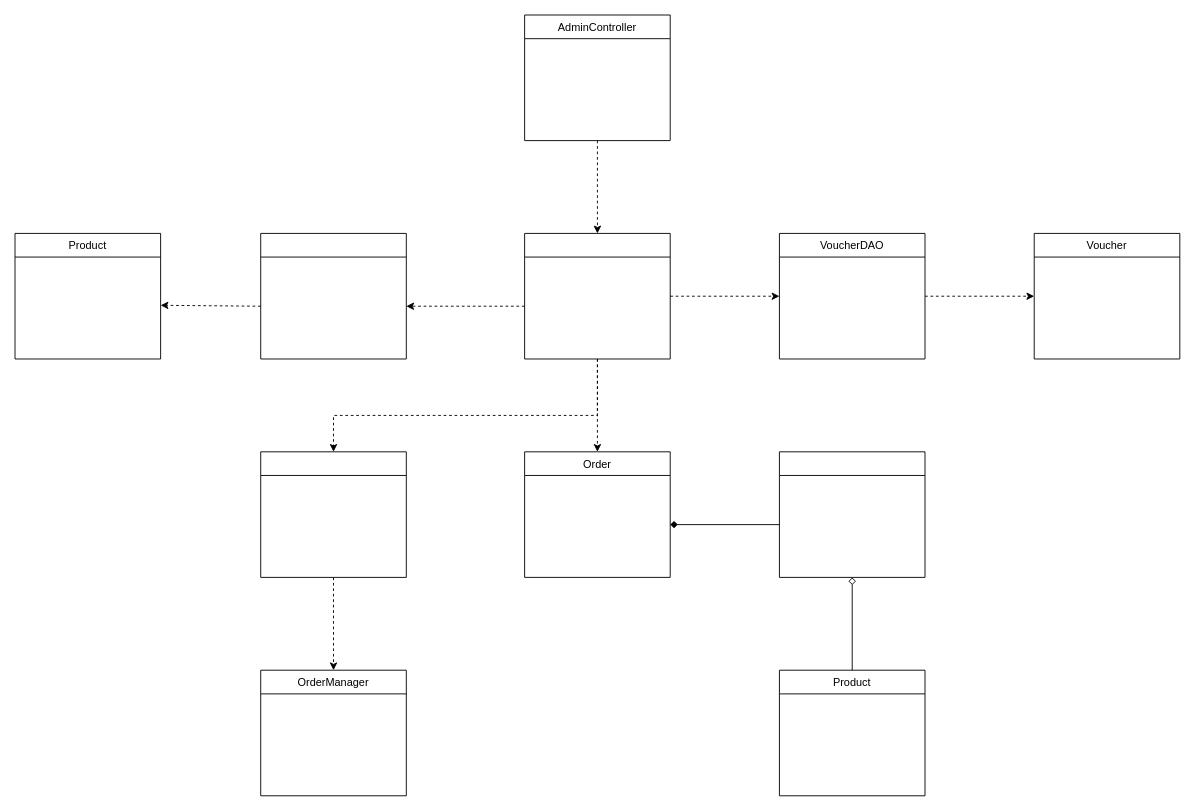
The diagram is 1195 pixels wide and 811 high, and some of its shapes have lost their labels. Here are the shapes that lost their labels. From the top down, the centre of each, then its label:
At point (333, 296): "ProductDAO".
At point (597, 296): "OrderDAO".
At point (333, 514): "OrderManagerDAO".
At point (852, 514): "OrderDetail".
